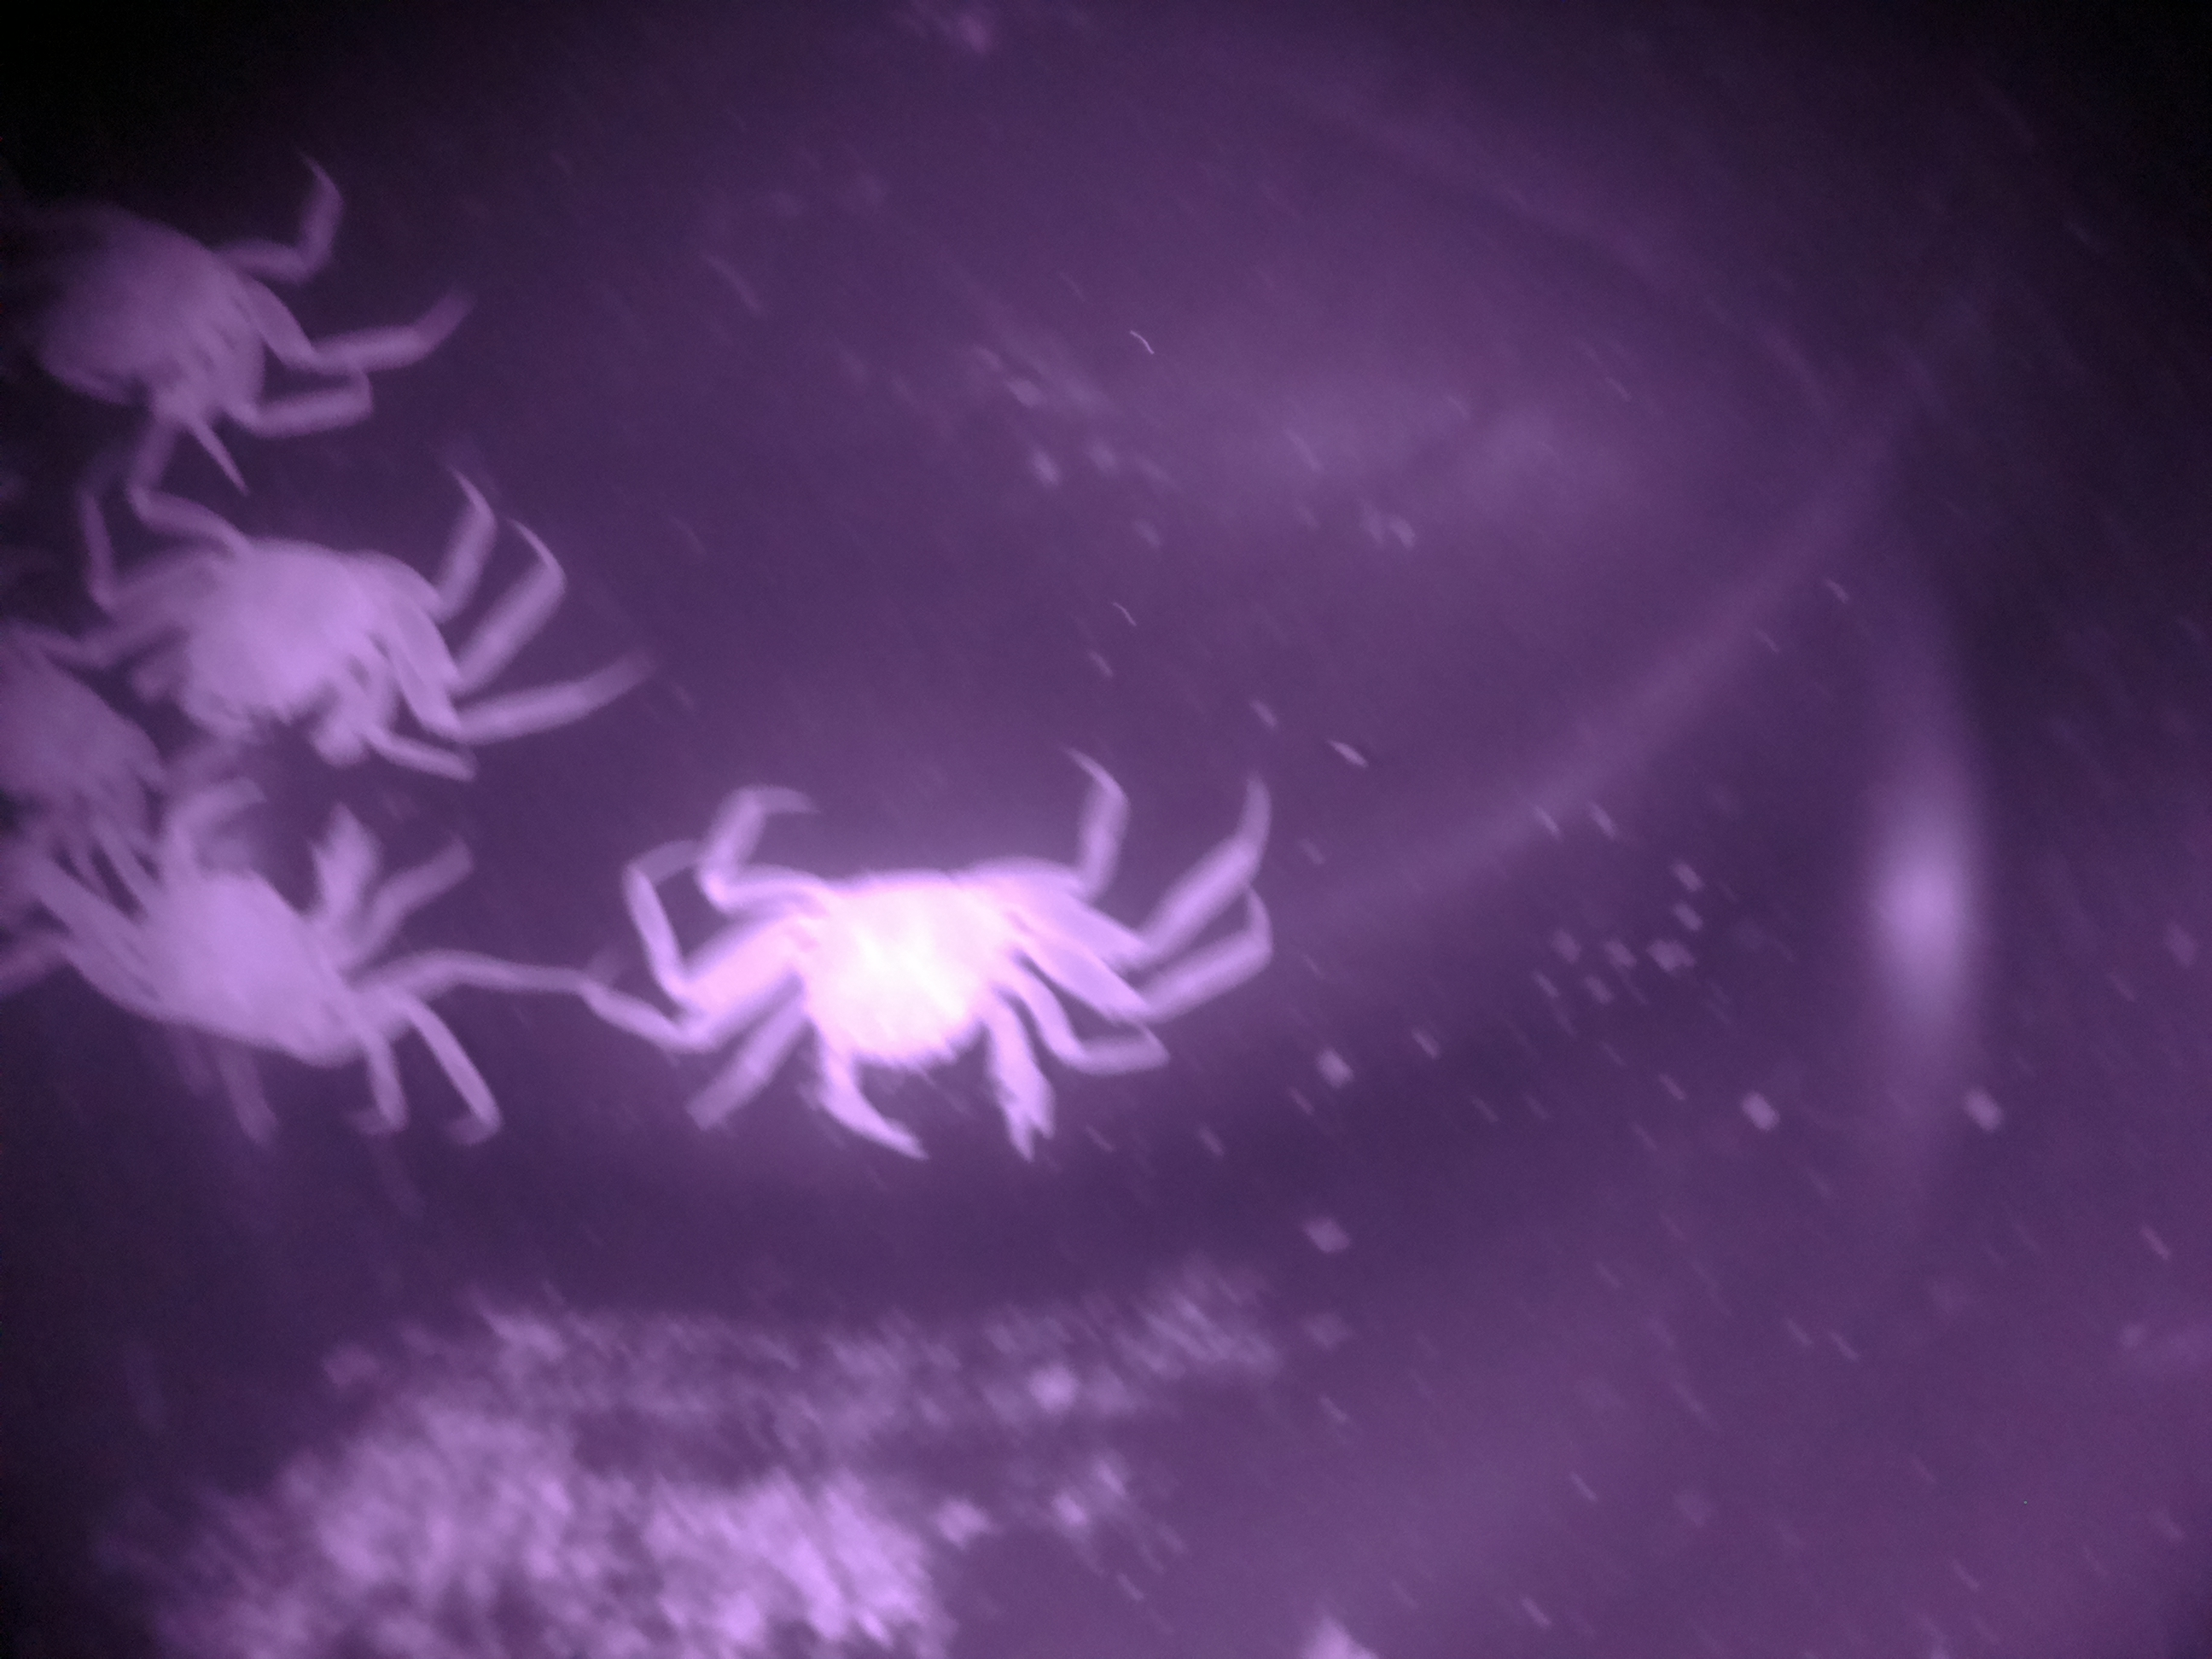Crab: (723, 788, 1103, 1197), (98, 748, 420, 1152), (134, 460, 451, 793)
